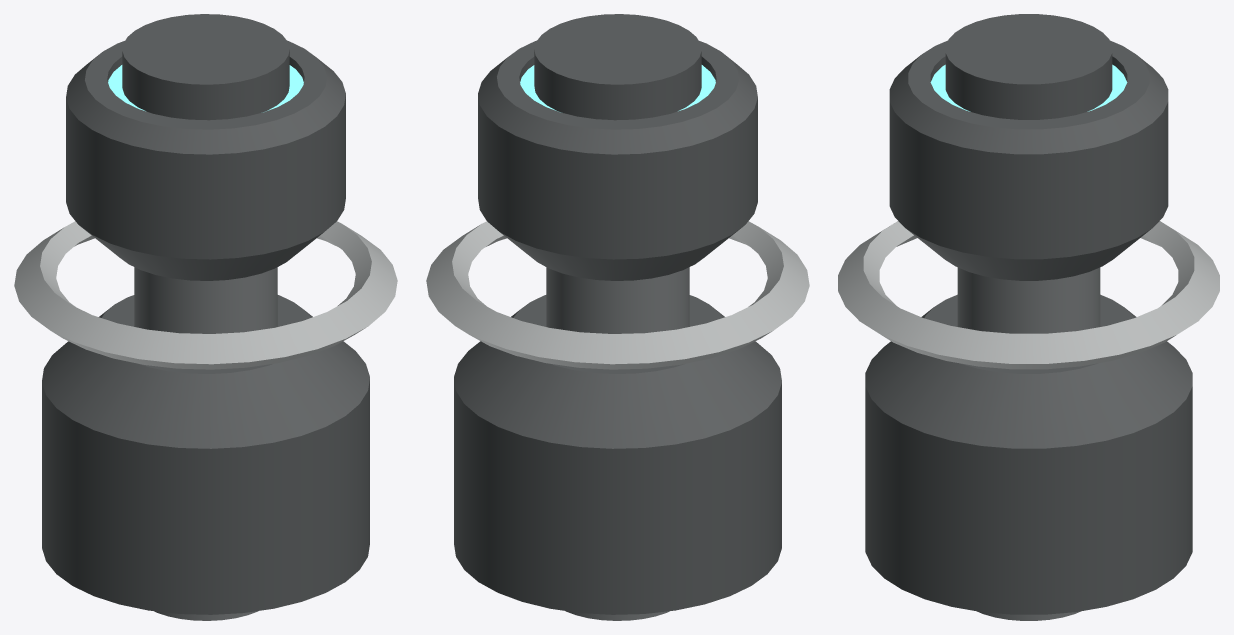
The model's file is OperationCenter_Beam.fbx.
3 views of the same model, side by side, from view 1: azimuth 30°, elevation 25°; view 2: azimuth 150°, elevation 25°; view 3: azimuth 270°, elevation 25° (orthographic).
Parts seen in each view (by area): view 1: OperationCenter_Beam_LOD0; view 2: OperationCenter_Beam_LOD0; view 3: OperationCenter_Beam_LOD0.
Part boxes in pixels (<box>): OperationCenter_Beam_LOD0: <box>14,14,397,620</box>; OperationCenter_Beam_LOD0: <box>426,14,809,620</box>; OperationCenter_Beam_LOD0: <box>838,14,1219,620</box>.
Size of what is drawn, in the model's own units: 200 by 314 by 200.
Materials: 1 (1 with a texture image).
